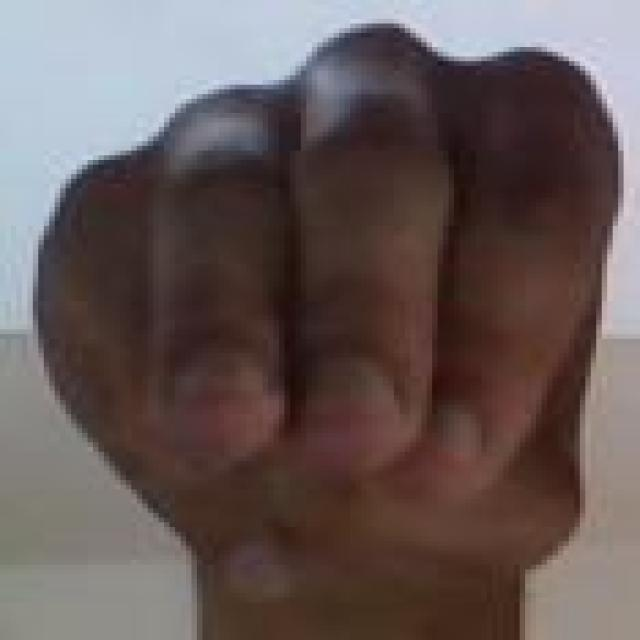M: (42, 31, 616, 608)
